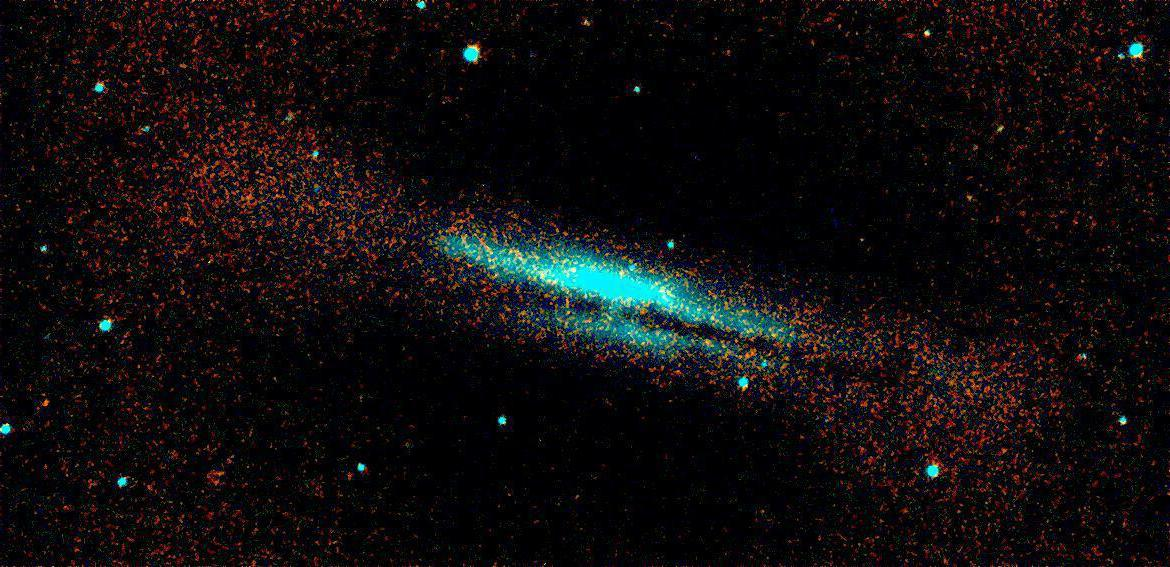star: (25, 391, 55, 421)
